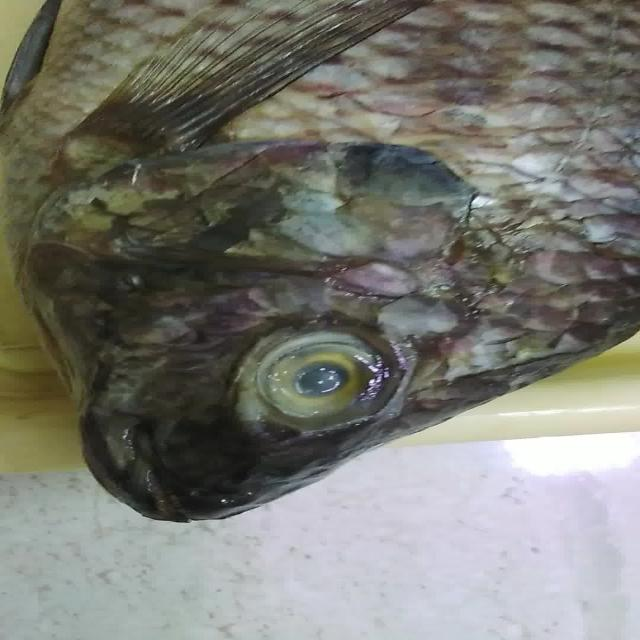Non-Fresh: (34, 36, 636, 314), (233, 326, 423, 436)
